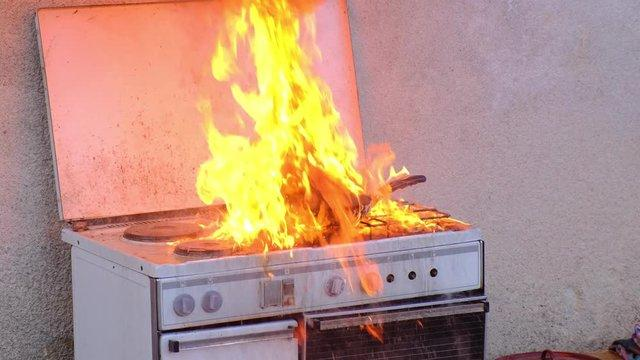fire: (199, 0, 453, 247), (334, 242, 388, 302), (362, 317, 391, 345), (293, 318, 310, 346)
